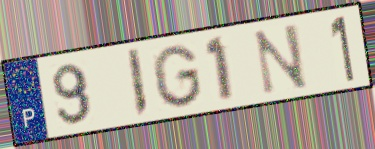1: (202, 34, 240, 104), (328, 13, 357, 85)
9: (50, 59, 95, 127)
G: (150, 43, 205, 110)
I: (124, 46, 151, 120)
N: (251, 21, 310, 98)
